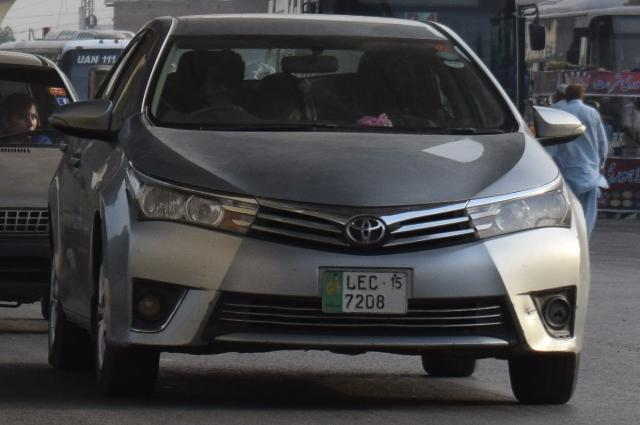plate: (322, 270, 408, 313)
